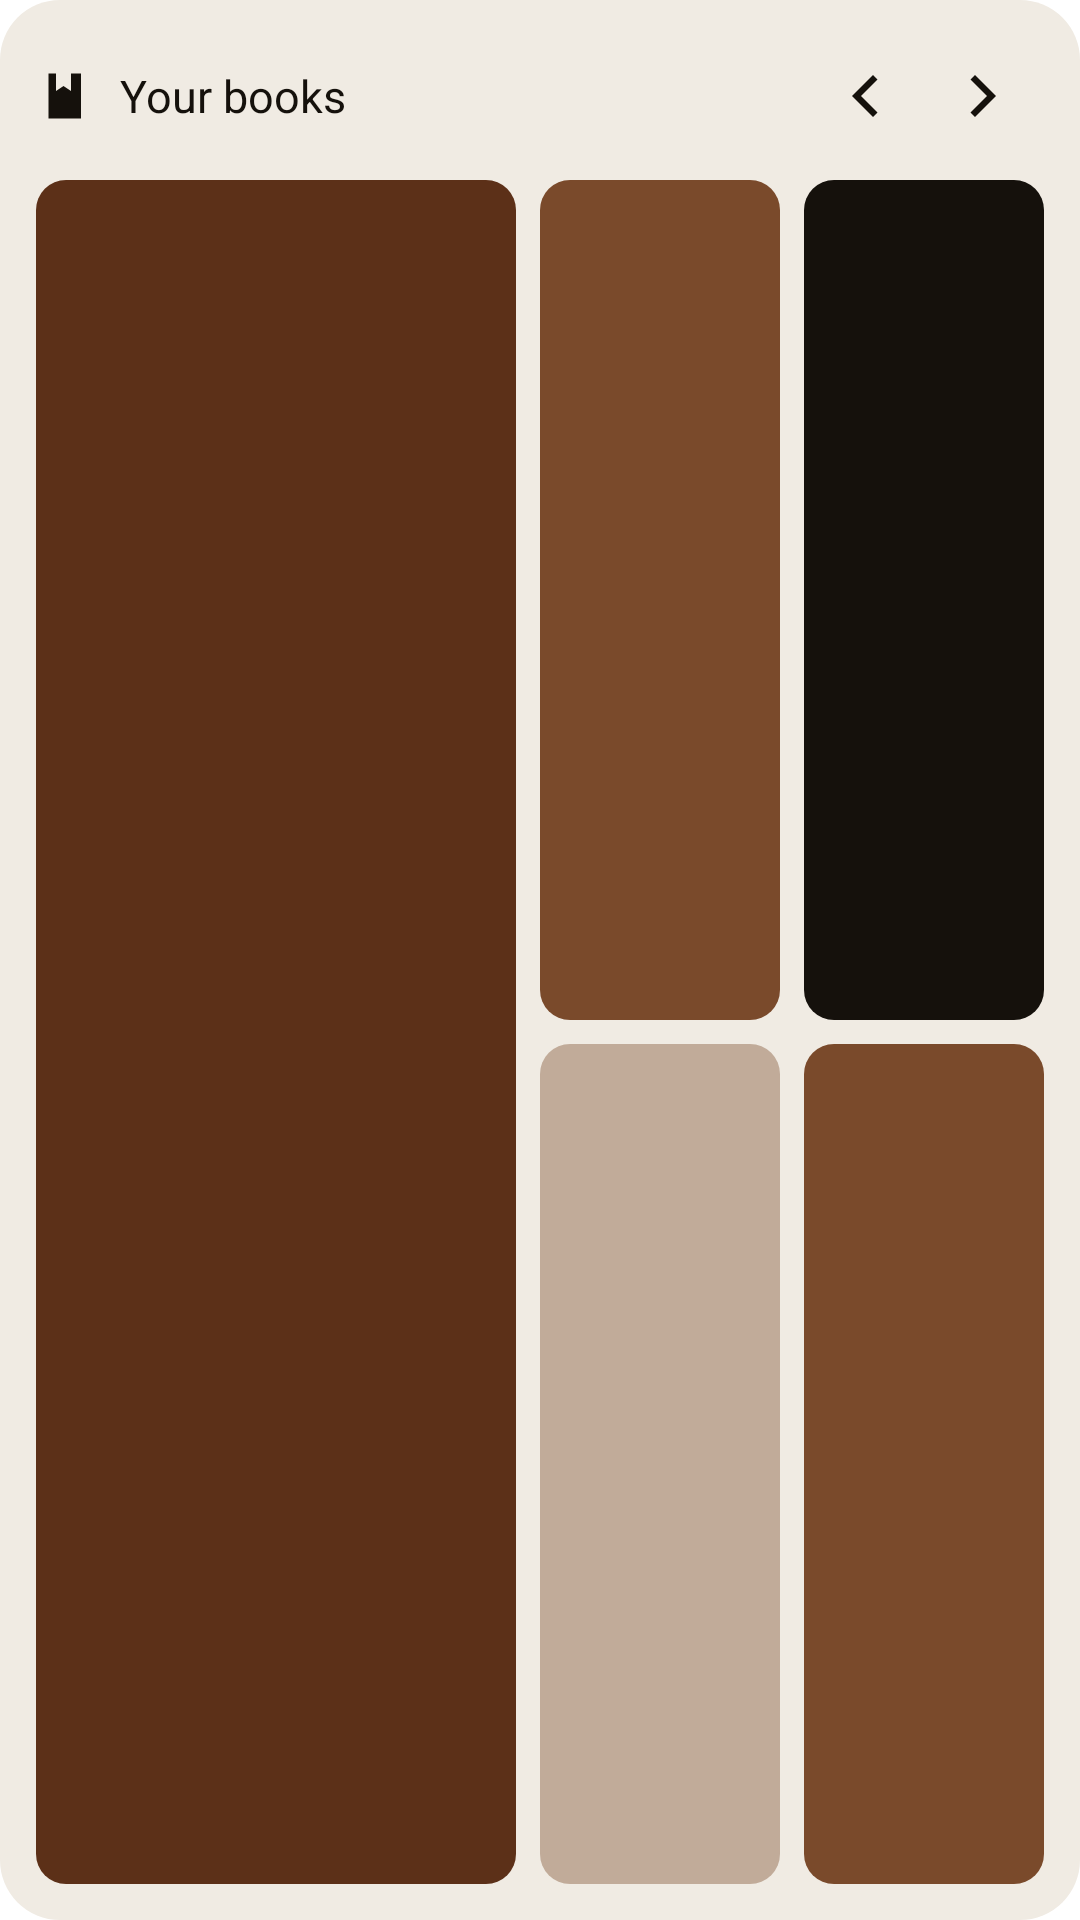

Icons on this 1080w x 1920h Android screen, each with its box as Rect(x1, y1, x2, y2):
Next books: Rect(970, 75, 996, 117)
Previous books: Rect(852, 75, 878, 117)
